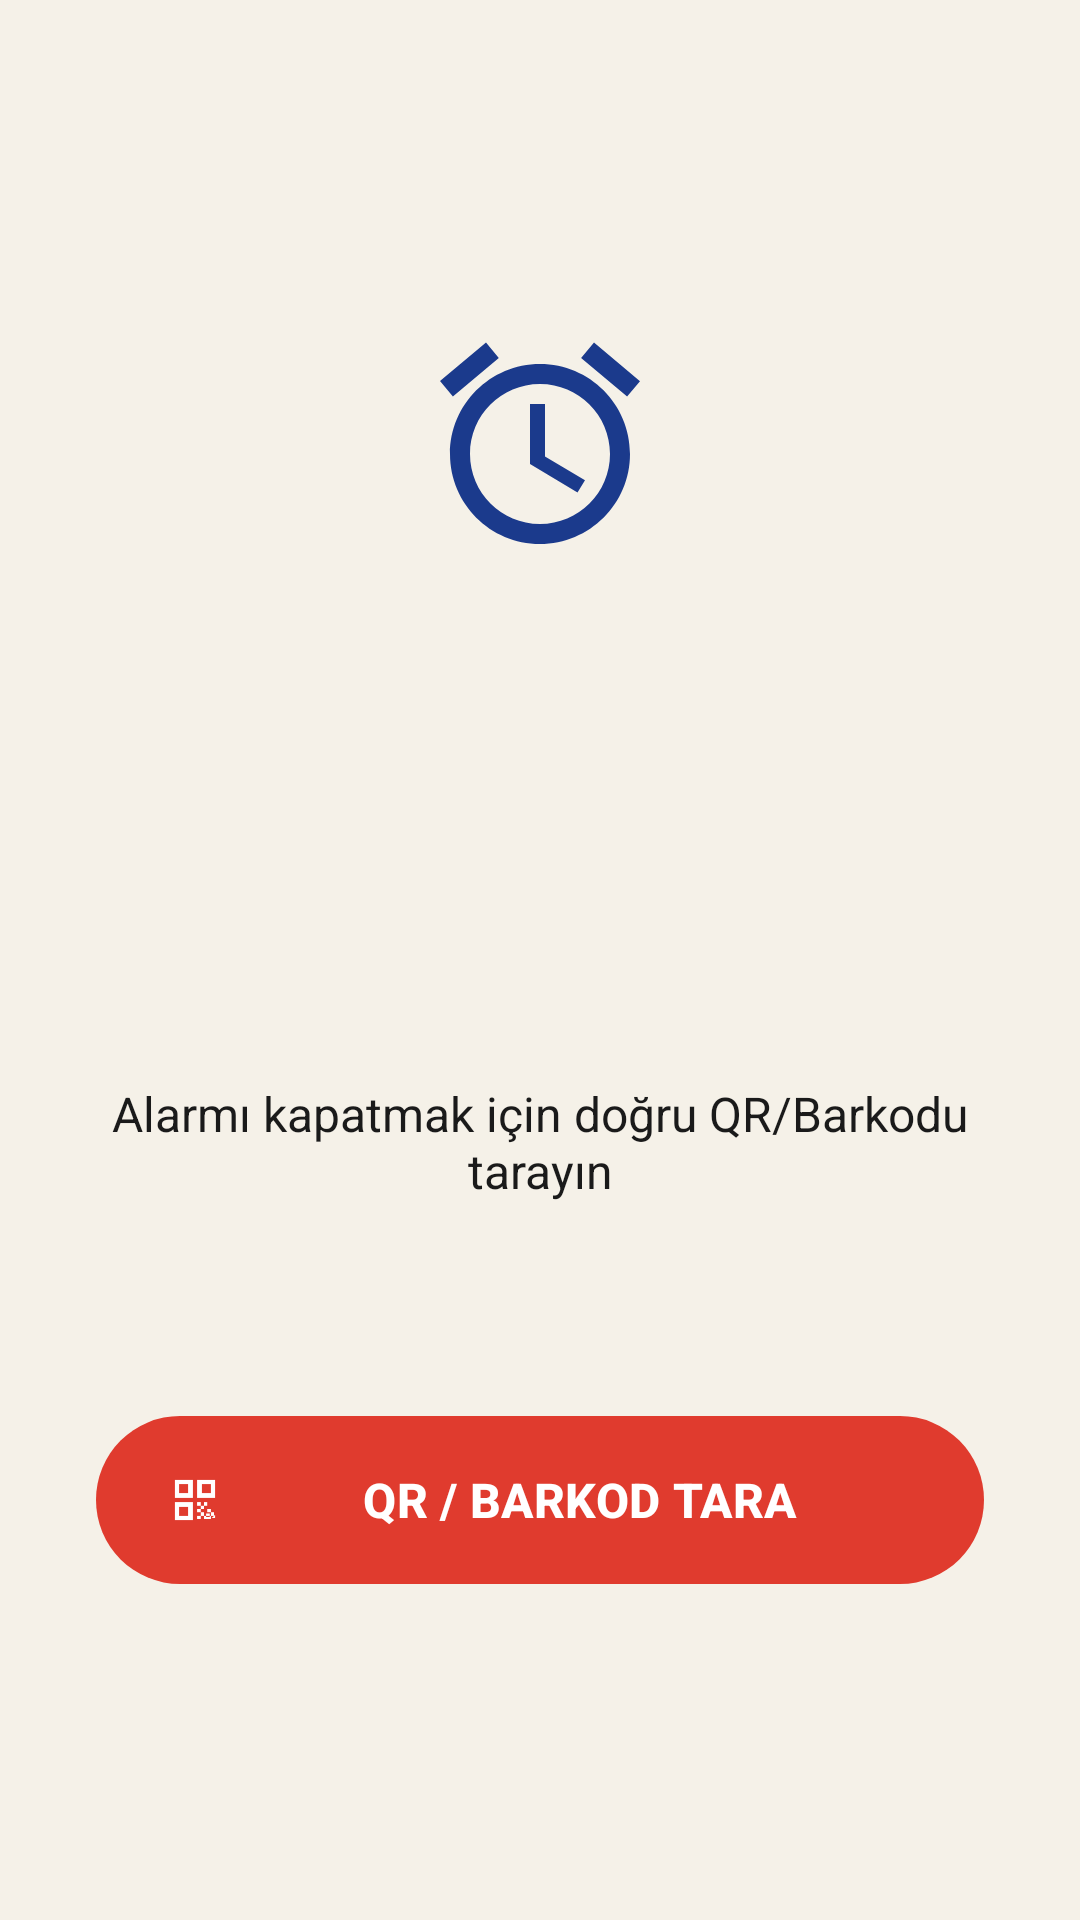

Icons on this 1080px×1920px Android screen, each with the point to tap as point (x, y):
alarm: point (540, 443)
